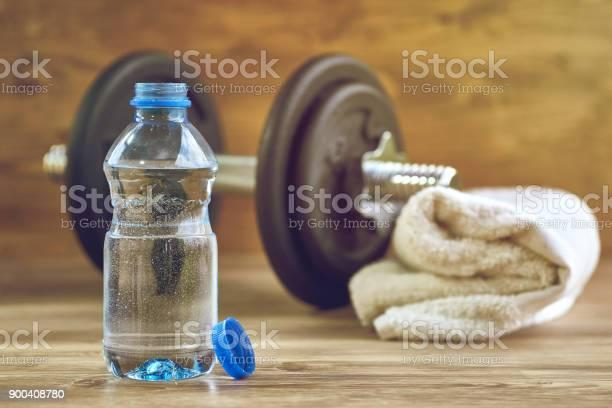bottle: (91, 66, 263, 389)
